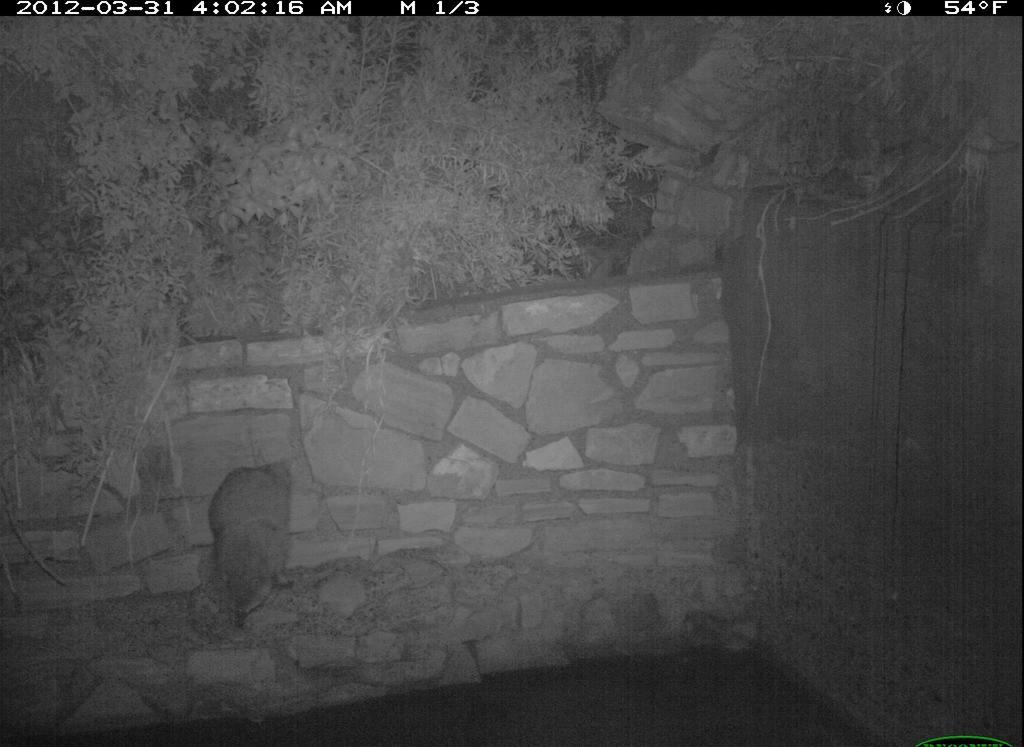raccoon: (187, 455, 315, 635)
